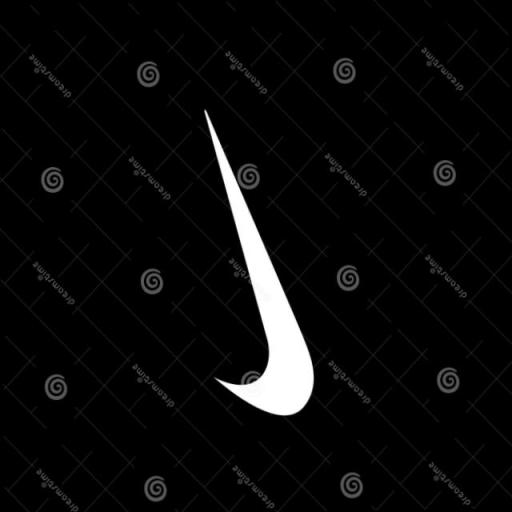Nike: (200, 102, 316, 422)
